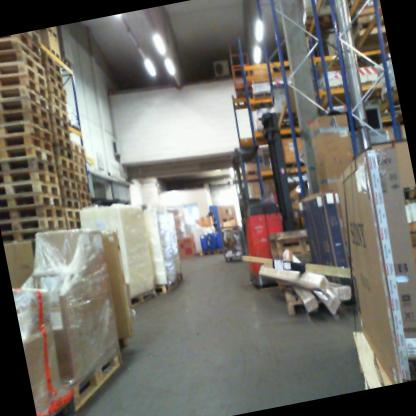forklift: (215, 102, 313, 301)
pallet: (63, 336, 135, 413), (283, 274, 352, 323), (347, 318, 394, 388), (268, 222, 325, 279), (0, 42, 46, 89), (0, 114, 53, 154), (0, 200, 66, 232), (0, 100, 50, 142), (0, 174, 61, 208), (0, 88, 50, 129), (0, 53, 46, 97), (0, 64, 47, 107), (0, 187, 64, 218), (0, 149, 56, 184), (0, 138, 55, 173), (0, 163, 58, 196), (115, 277, 164, 316), (1, 211, 66, 240), (0, 126, 53, 161), (32, 379, 80, 416), (0, 79, 47, 115), (0, 32, 42, 72), (147, 268, 187, 301), (348, 12, 386, 45), (12, 31, 38, 57), (249, 89, 274, 114), (394, 180, 416, 204), (44, 63, 67, 85), (53, 122, 74, 146), (49, 83, 70, 107), (41, 52, 62, 75), (47, 73, 67, 97), (55, 153, 76, 174), (54, 142, 73, 163), (52, 135, 74, 153), (49, 100, 66, 123), (59, 185, 81, 202), (64, 216, 85, 233), (57, 175, 76, 193), (57, 166, 76, 184), (50, 113, 68, 132), (80, 199, 100, 216), (64, 205, 85, 221), (404, 223, 416, 250), (72, 160, 89, 179), (51, 94, 67, 114), (71, 138, 87, 158), (73, 179, 93, 195), (47, 47, 64, 65), (71, 169, 88, 187), (71, 149, 85, 169), (187, 246, 206, 260), (63, 198, 82, 212), (76, 189, 93, 204), (60, 55, 74, 71), (201, 243, 215, 258), (44, 29, 60, 41), (214, 244, 227, 256)
stillage: (216, 216, 246, 263)
